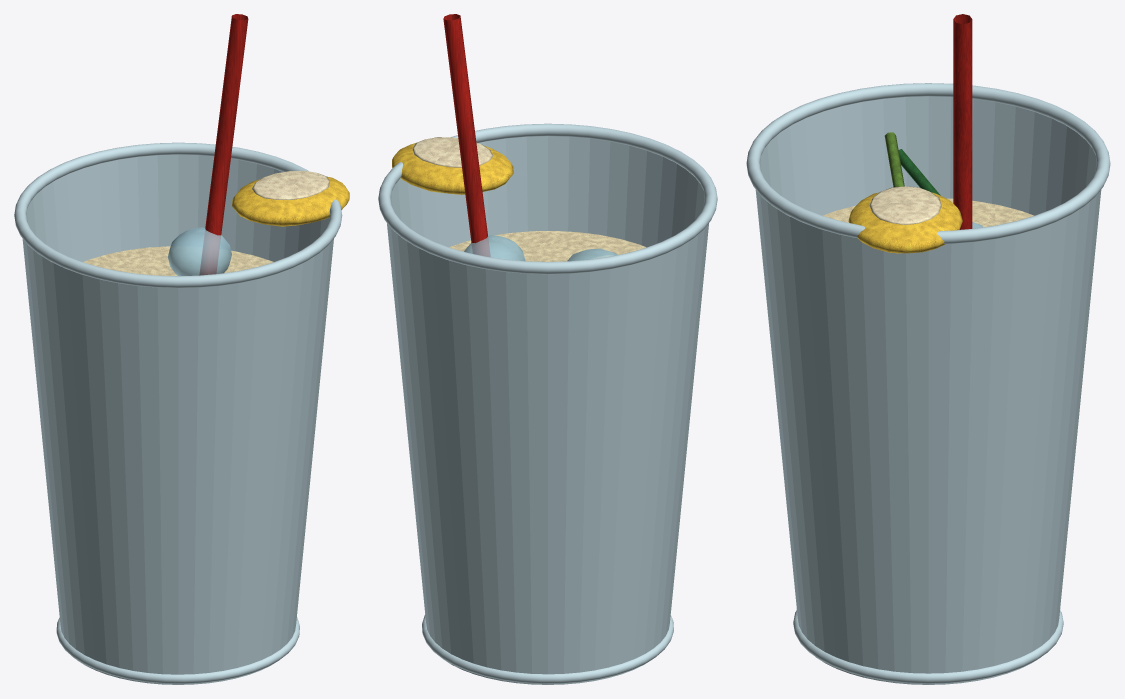
The model's file is limonada-coco.glb.
3 renders of one model, left to right at view 1: azimuth 30°, elevation 25°; view 2: azimuth 150°, elevation 25°; view 3: azimuth 270°, elevation 25°, orthographic. The views are drawn at different scales.
Parts seen in each view (by area): view 1: glass, straw, lemon, ice, coconutDrink, cream; view 2: glass, straw, lemon, coconutDrink, cream, ice; view 3: glass, straw, lemon, cream, coconutDrink, leafLight, leaf.
Boxes of the visible parts, x1,y1,x2,y2 form: glass: [14, 142, 342, 684]; straw: [199, 14, 248, 274]; lemon: [232, 176, 349, 226]; ice: [168, 227, 231, 276]; coconutDrink: [83, 246, 273, 276]; cream: [252, 170, 329, 199]; glass: [378, 123, 717, 684]; straw: [443, 14, 490, 256]; lemon: [392, 142, 513, 194]; coconutDrink: [449, 231, 646, 261]; cream: [412, 137, 493, 167]; ice: [464, 235, 617, 261]; glass: [746, 83, 1110, 684]; straw: [953, 14, 972, 229]; lemon: [848, 192, 962, 253]; cream: [869, 186, 941, 224]; coconutDrink: [823, 198, 1033, 226]; leafLight: [884, 132, 904, 187]; leaf: [898, 149, 940, 195].
Size of the model in its own units: 0.2009 by 0.3787 by 0.191.
Materials: 9 (9 with a texture image).
